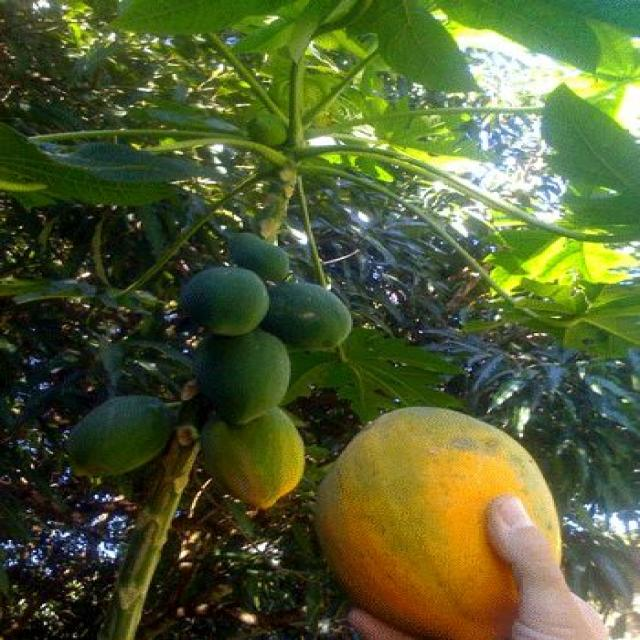Pepaya rippen: (314, 406, 572, 633), (201, 418, 309, 511)
Pepaya unrippen: (190, 342, 300, 420), (73, 400, 179, 473), (178, 262, 262, 337), (271, 286, 353, 352), (232, 236, 296, 277)
